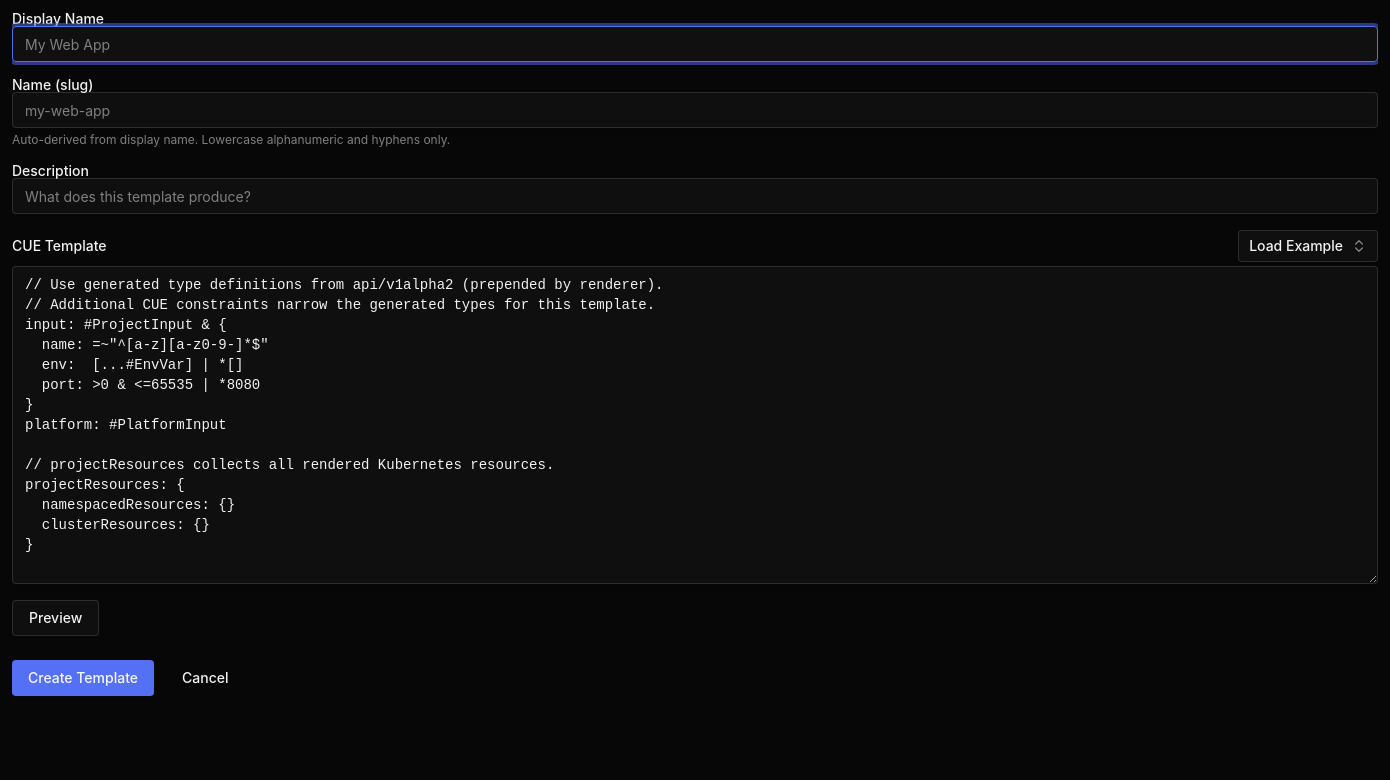
Test: TemplateCreateForm — shared behavior › rejects submission when name is empty (project)
Click the button "Create Template" at (83, 678), box [12,660,154,696]
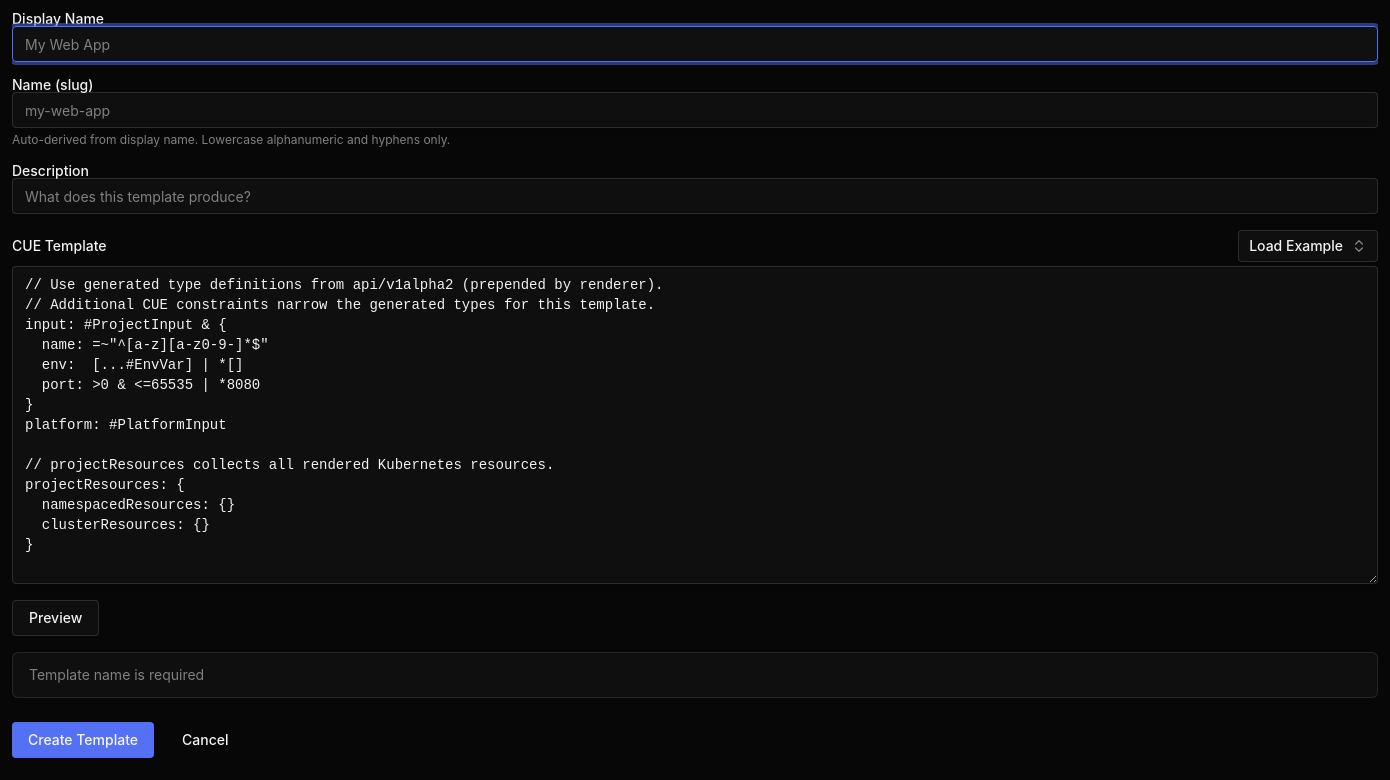
Check: the text "Template name is required" is shown, box [29,666,204,683]
